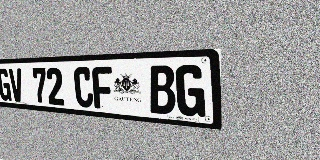2: (46, 67, 64, 106)
7: (31, 68, 49, 104)
B: (148, 65, 176, 115)
C: (73, 67, 94, 108)
F: (92, 66, 114, 110)
G: (175, 65, 205, 117), (0, 68, 12, 101)
V: (9, 68, 24, 102)
